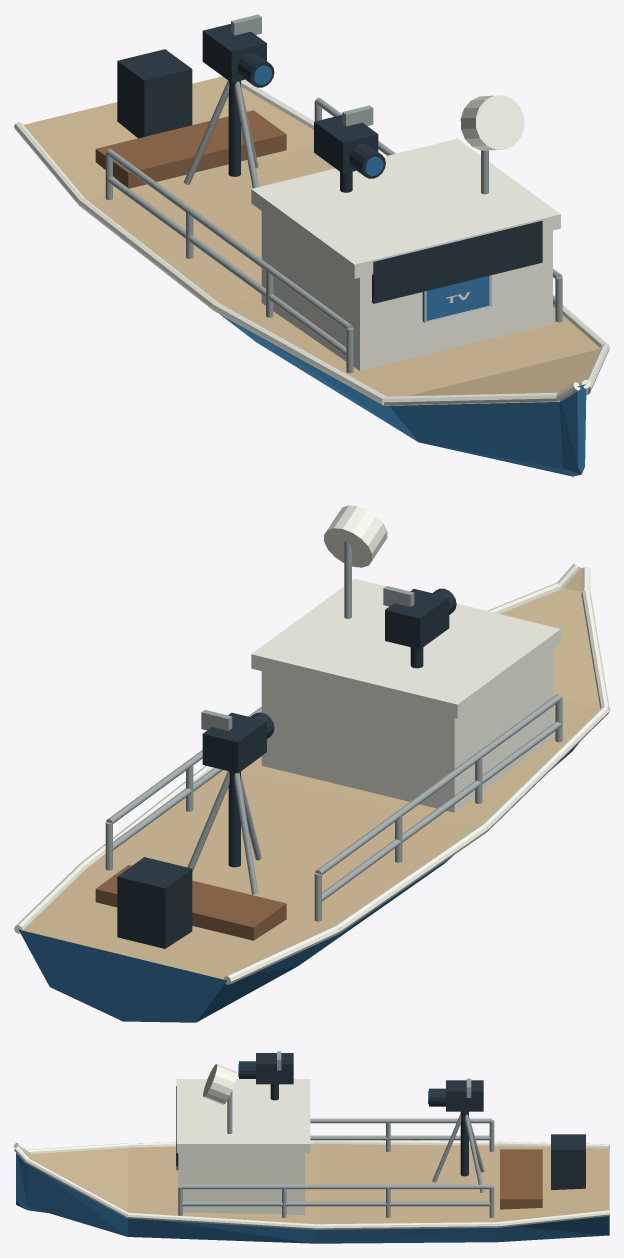
File: scendance-plan-tv-boat.glb
3 renders of one model, top to bottom at view 1: azimuth 30°, elevation 25°; view 2: azimuth 150°, elevation 25°; view 3: azimuth 270°, elevation 25°, orthographic. The views are drawn at different scales.
Bounding box in the file's own units: 2.42 × 2.35 × 7.
7 materials, 1 textured.
